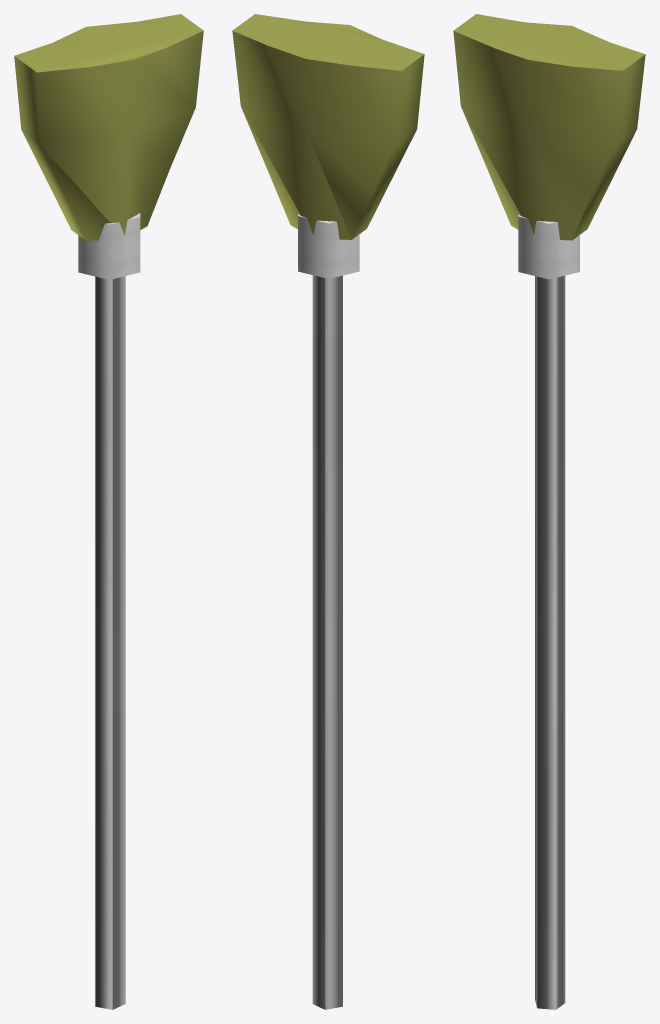
The model's file is tool_broom.obj.
The picture shows the model from 3 angles, left to right: view 1: azimuth 30°, elevation 25°; view 2: azimuth 150°, elevation 25°; view 3: azimuth 330°, elevation 25°; orthographic projection.
Parts seen in each view (by area): view 1: source_component_02, source_component_00, source_component_01; view 2: source_component_02, source_component_00, source_component_01; view 3: source_component_02, source_component_00, source_component_01.
Part boxes in pixels (x1,y1,x2,y2): source_component_02: [14, 14, 203, 240]; source_component_00: [95, 276, 125, 1009]; source_component_01: [78, 213, 140, 279]; source_component_02: [232, 14, 424, 239]; source_component_00: [312, 275, 342, 1009]; source_component_01: [298, 214, 359, 278]; source_component_02: [453, 14, 645, 240]; source_component_00: [535, 275, 565, 1009]; source_component_01: [518, 214, 579, 279].
Size of the model in its own units: 0.1906 by 1.04 by 0.09.
